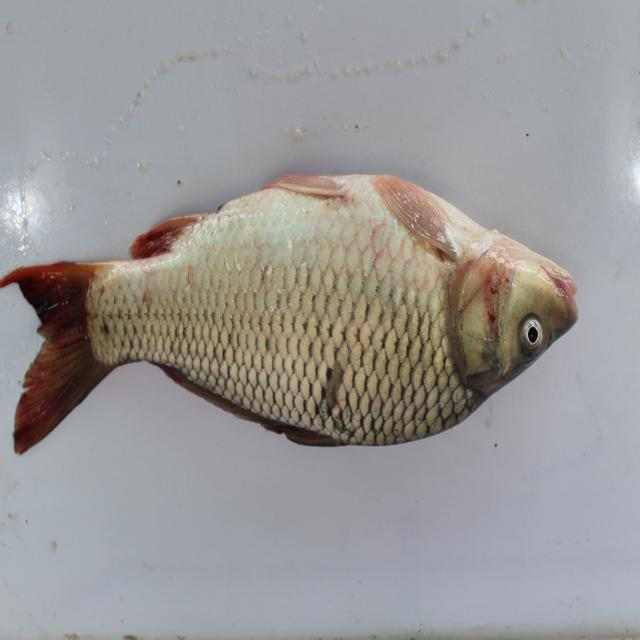CommonCarp: (7, 152, 585, 501)
